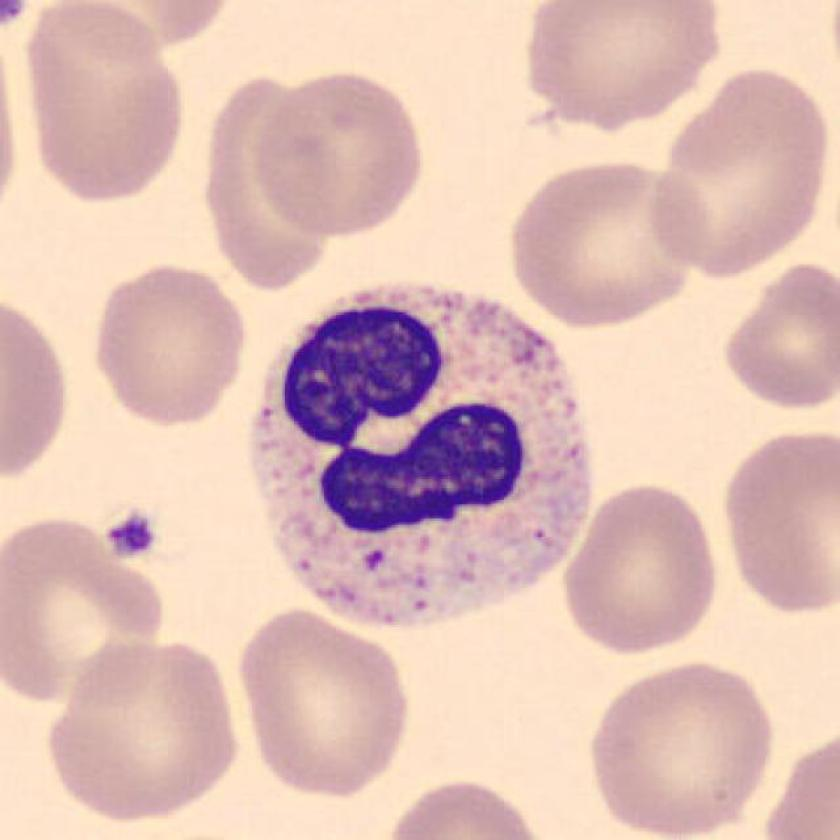neutrophil: (249, 284, 590, 629)
